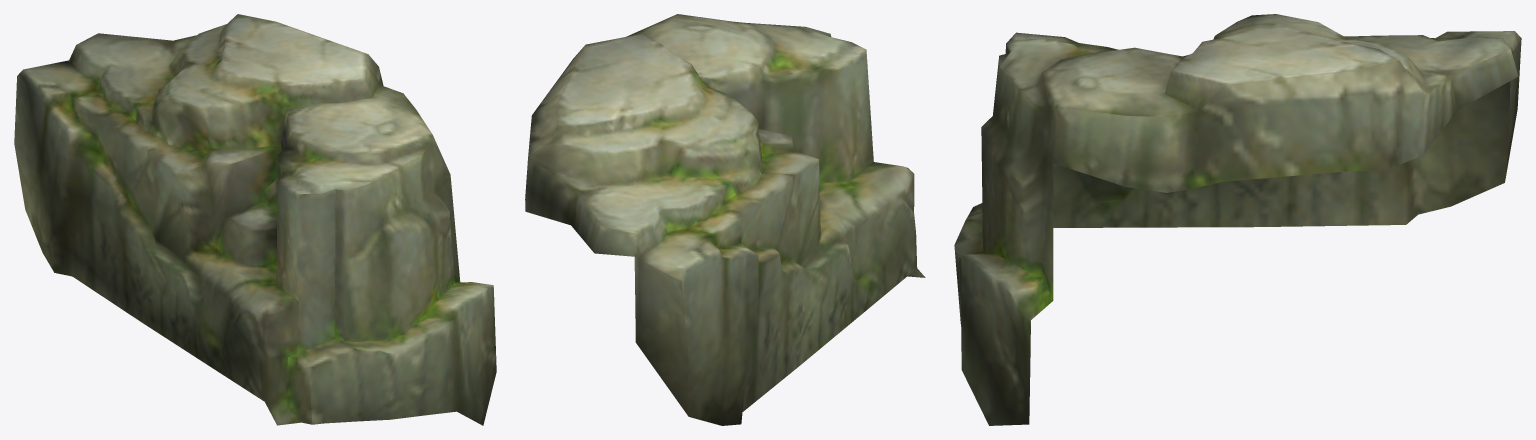
The model's file is S_Rock_Green050_1060_1.fbx.
3 renders of one model, left to right at view 1: azimuth 30°, elevation 25°; view 2: azimuth 150°, elevation 25°; view 3: azimuth 270°, elevation 25°, orthographic. The views are drawn at different scales.
Parts seen in each view (by area): view 1: S_Rock_Green050; view 2: S_Rock_Green050; view 3: S_Rock_Green050.
Boxes of the visible parts, <box> form: S_Rock_Green050: <box>14,14,496,425</box>; S_Rock_Green050: <box>525,14,925,425</box>; S_Rock_Green050: <box>954,14,1521,425</box>.
Size of the model in its own units: 1010 by 1062 by 1630.
Materials: 1 (1 with a texture image).
